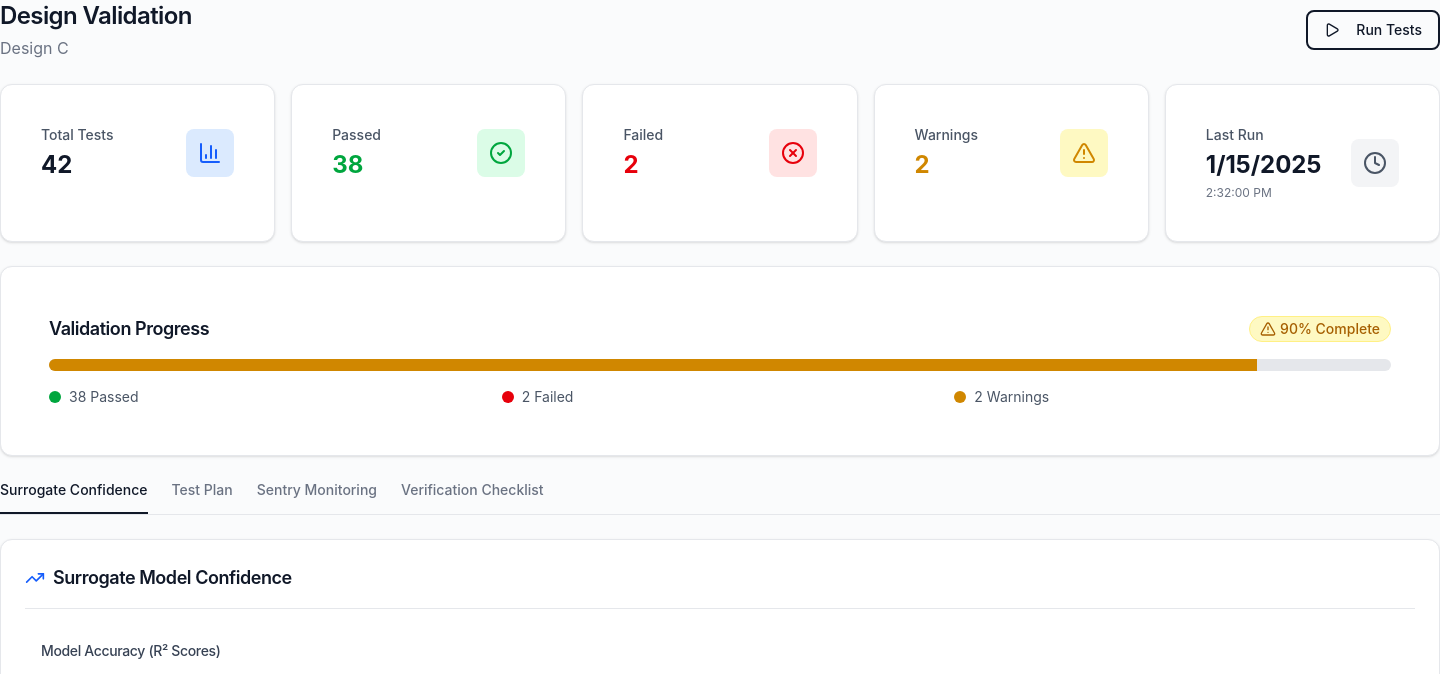
ValidationScreen Component › Component Rendering › should render sensor locations when provided
Navigate to sentry tab
Click the tab "Sentry Monitoring": (317,497) 257,480 -> 377,514
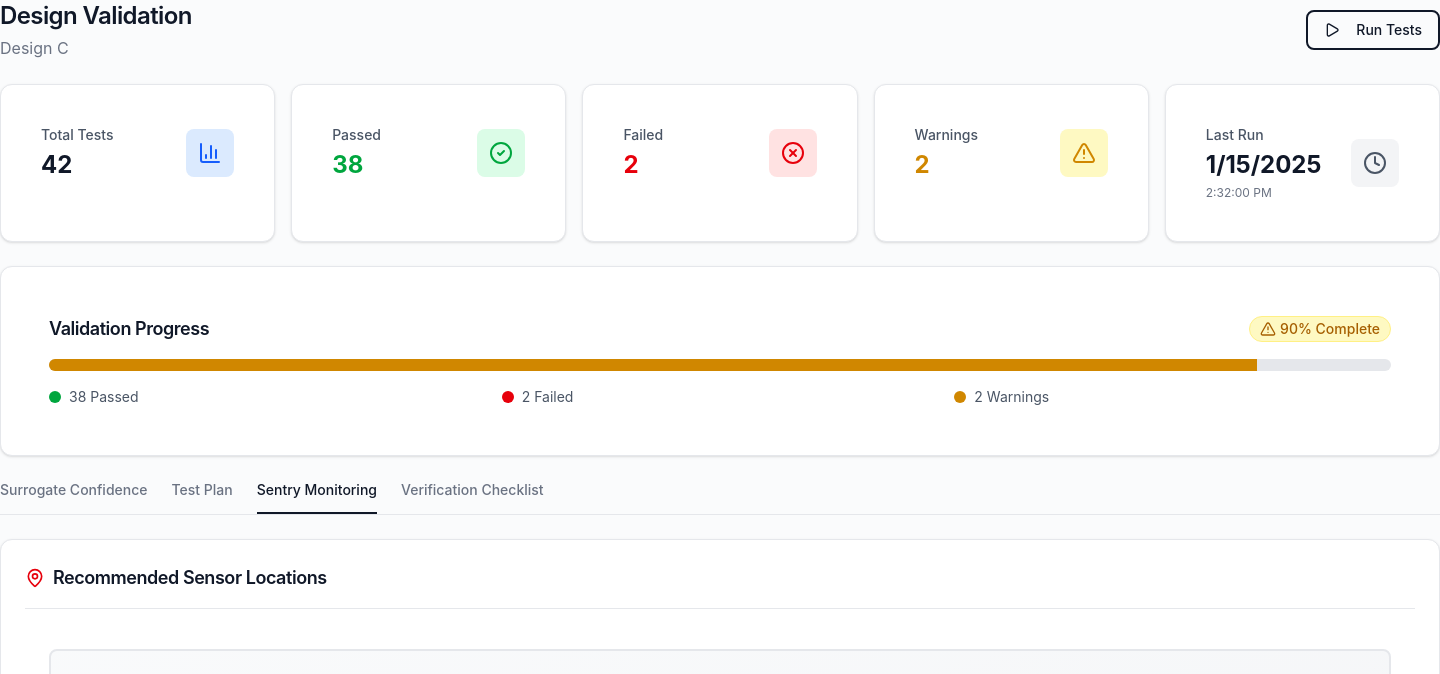
Expected: the heading "Recommended Sensor Locations" is shown, 25,567 -> 327,588
